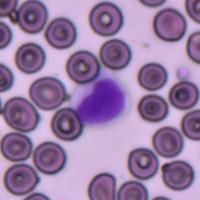M: (68, 70, 131, 128)
